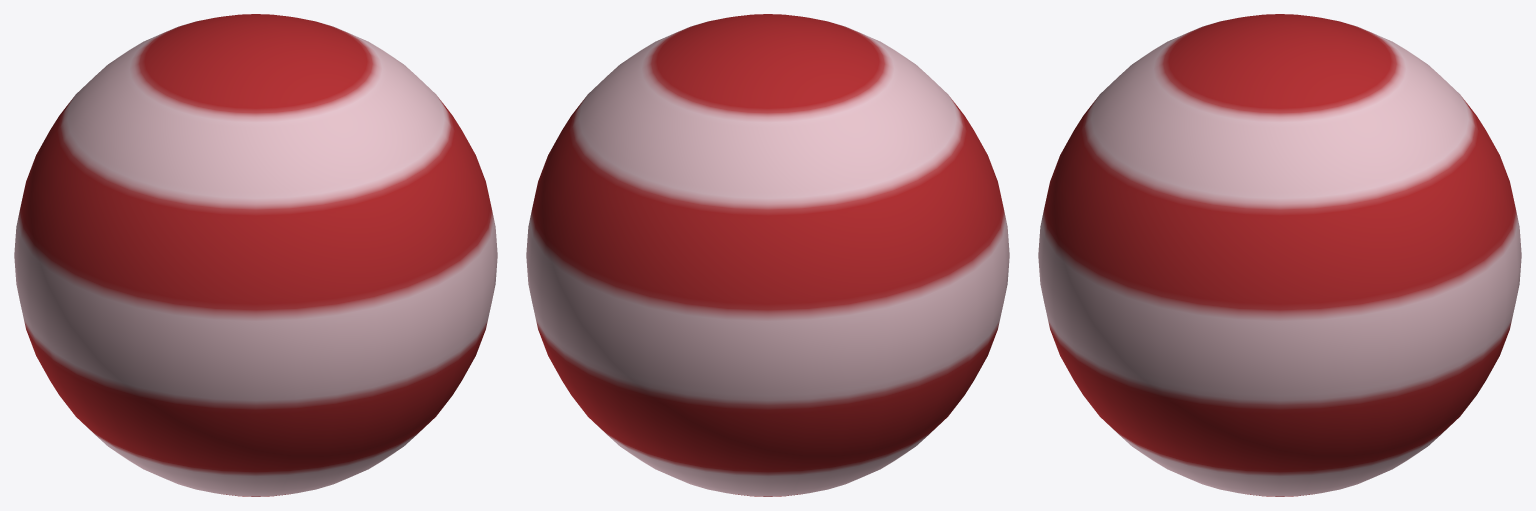
File: ball.glb
3 renders of one model, left to right at view 1: azimuth 30°, elevation 25°; view 2: azimuth 150°, elevation 25°; view 3: azimuth 270°, elevation 25°, orthographic.
Visible parts, largest first — view 1: ball; view 2: ball; view 3: ball.
Part boxes in pixels (x1,y1,x2,y2): ball: (14,14,497,496); ball: (526,14,1009,496); ball: (1038,14,1521,496).
Bounding box in the file's own units: 0.049 × 0.049 × 0.049.
Materials: 1 (1 with a texture image).
